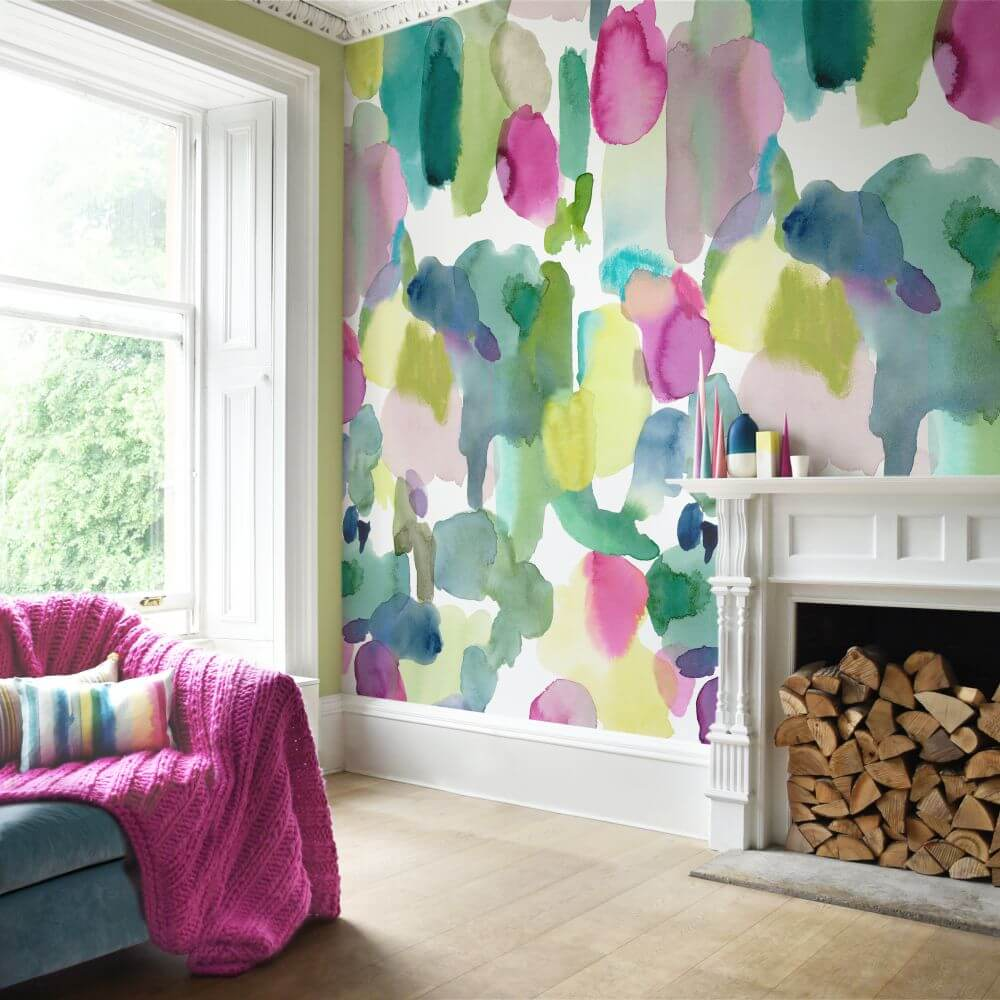biru: (729, 410, 757, 451)
coklat: (782, 649, 1000, 875)
pink: (780, 414, 790, 475)
putih: (725, 453, 756, 475), (792, 457, 809, 474)
ungu: (157, 661, 339, 940)
